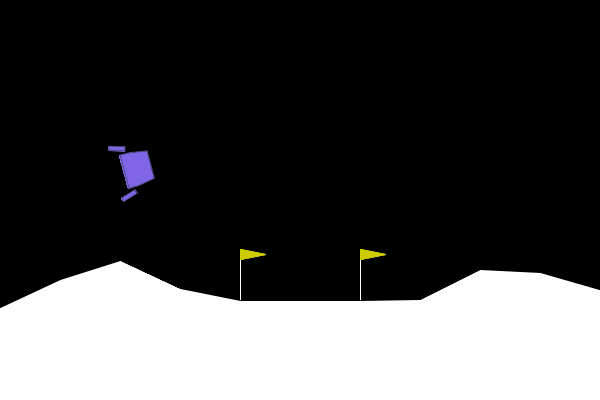lander: (106, 135, 160, 204)
